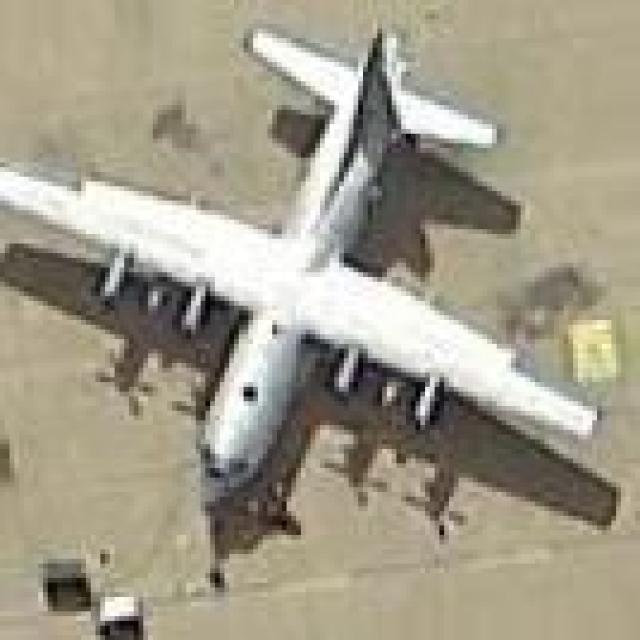C-130_TopDown: (0, 14, 616, 559)
